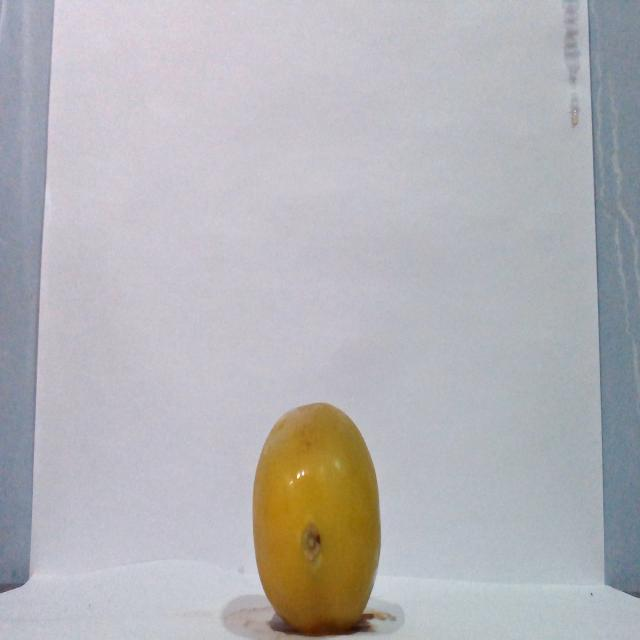Red: (250, 400, 382, 633)
